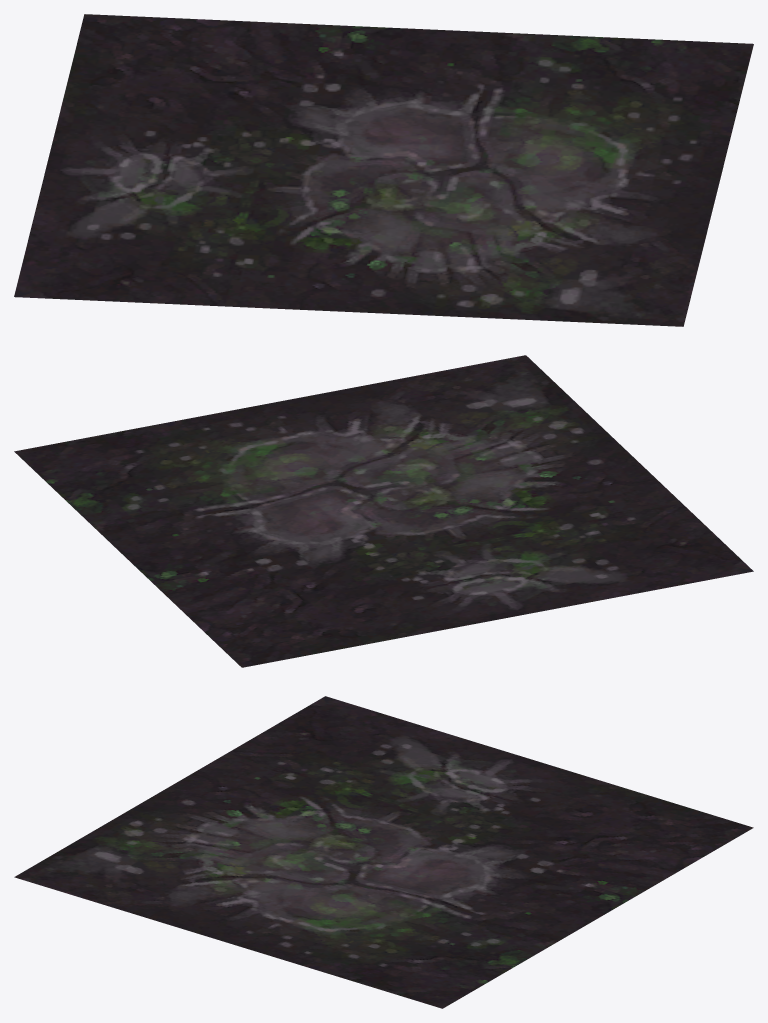
Rendered from cave_floor_mushrooms_08.fbx.
3 renders of one model, top to bottom at view 1: azimuth 30°, elevation 25°; view 2: azimuth 150°, elevation 25°; view 3: azimuth 270°, elevation 25°, orthographic. The views are drawn at different scales.
Parts seen in each view (by area): view 1: cave_tileset/Floormushrooms_01_mat; view 2: cave_tileset/Floormushrooms_01_mat; view 3: cave_tileset/Floormushrooms_01_mat.
Part boxes in pixels (x1,y1,x2,y2): cave_tileset/Floormushrooms_01_mat: (14,14,753,326); cave_tileset/Floormushrooms_01_mat: (14,355,753,667); cave_tileset/Floormushrooms_01_mat: (14,696,753,1008).
Bounding box in the file's own units: 2.46 × 0 × 2.46.
